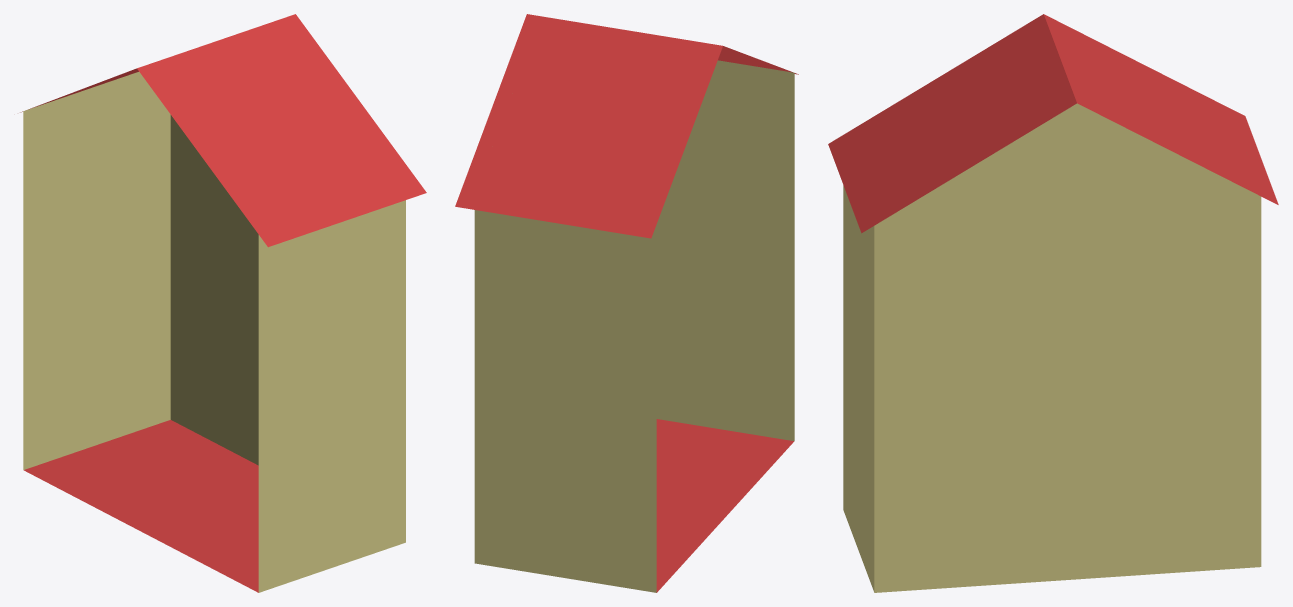
3 renders of one model, left to right at view 1: azimuth 30°, elevation 25°; view 2: azimuth 150°, elevation 25°; view 3: azimuth 270°, elevation 25°, orthographic. The views are drawn at different scales.
Bounding box in the file's own units: 4.47 × 7.26 × 8.57.
